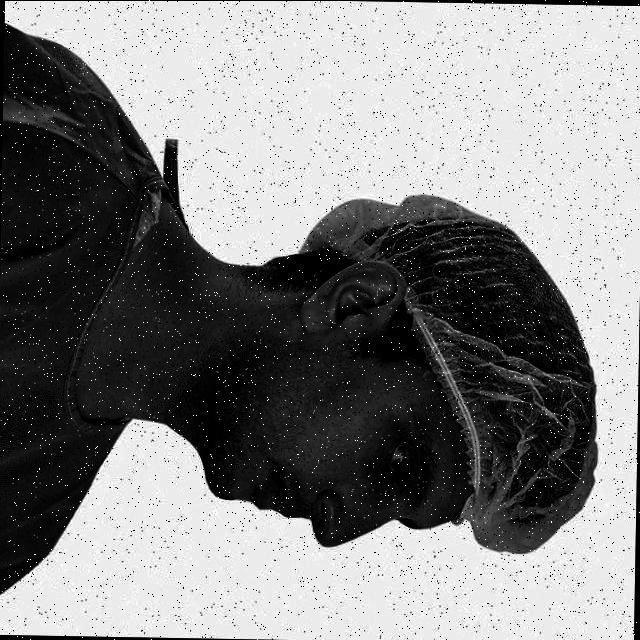gloves: (412, 178, 606, 562)
no_hairnet: (250, 384, 368, 538)
